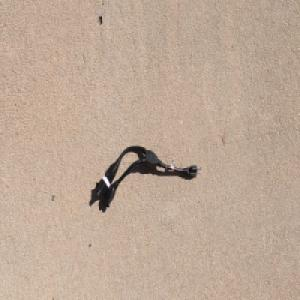Wire: (94, 144, 202, 208)
